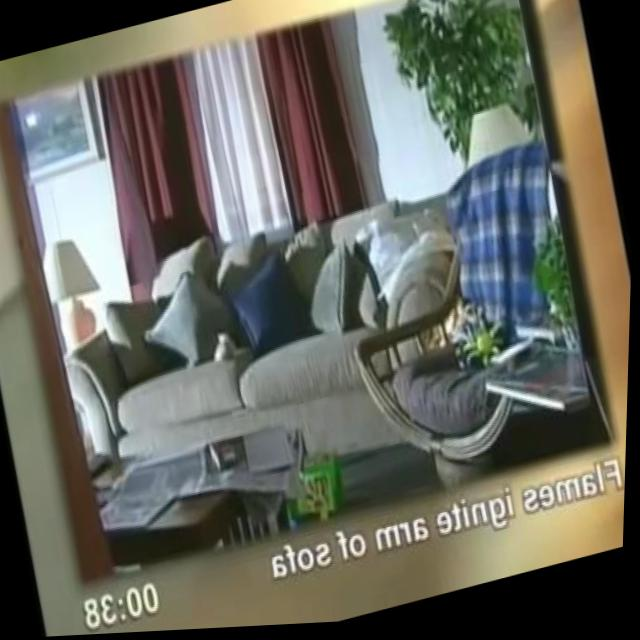fire: (437, 304, 467, 349)
